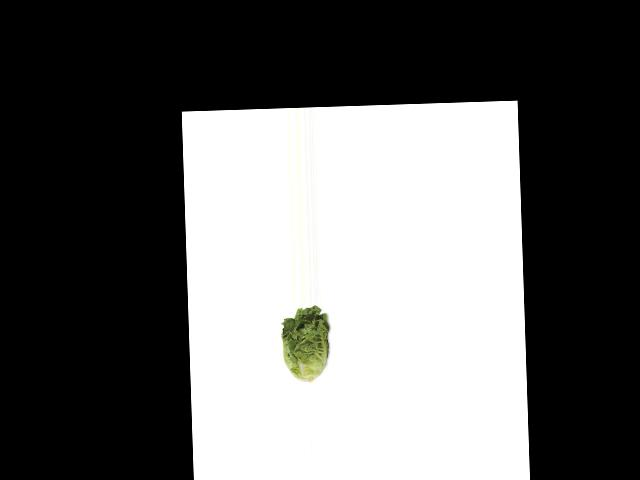lettuce: (276, 307, 334, 383)
